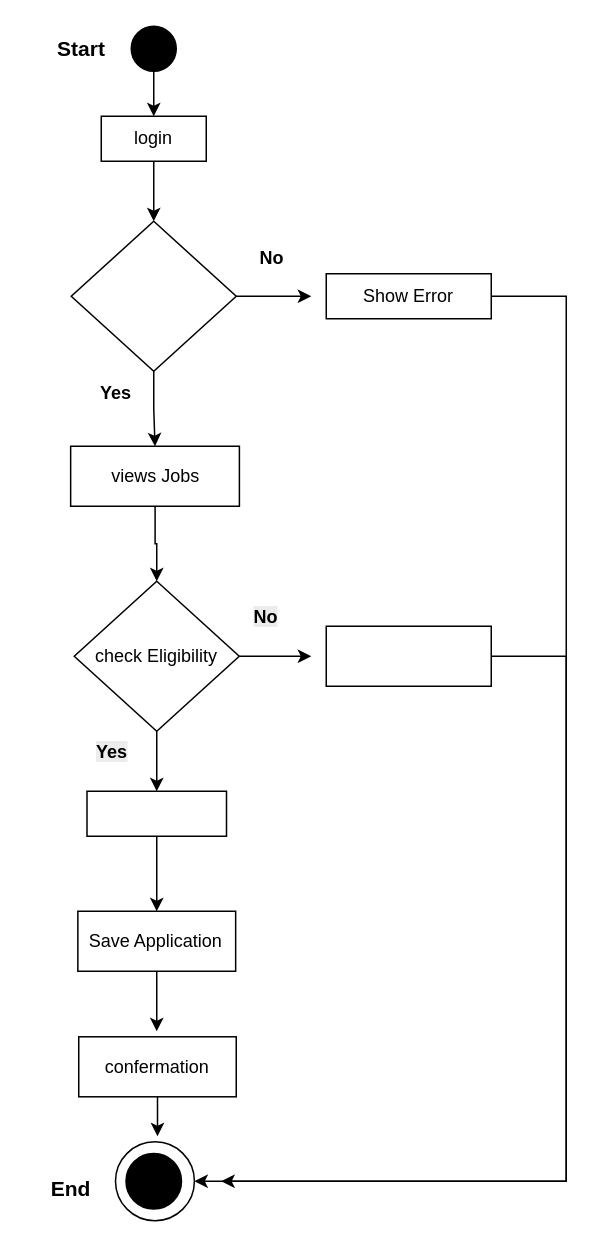
Some shapes in this 605 by 1248 pixel diagram are drawn without their labels. The shapes that lost their labels are listed below. From the top down, each one's centre as x and y in pixels, then its label:
(153,295): valide Credentials
(408,655): Not Eligible
(156,813): Apply Job
